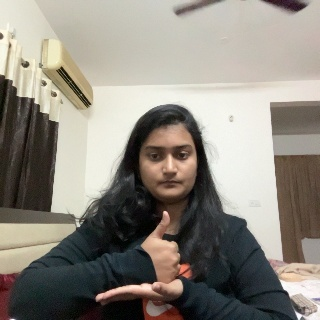Face: (140, 115, 195, 198)
Help: (99, 211, 192, 303)
